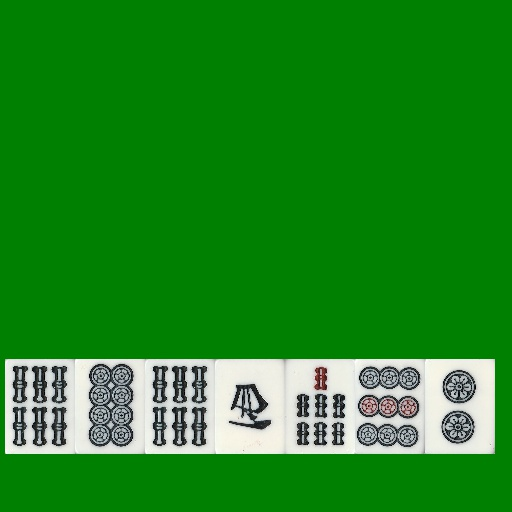2p: (425, 359, 495, 454)
6s: (5, 359, 75, 454), (145, 359, 215, 454)
7s: (285, 359, 355, 454)
8p: (75, 359, 145, 454)
9p: (355, 359, 425, 454)
west: (215, 359, 285, 454)
